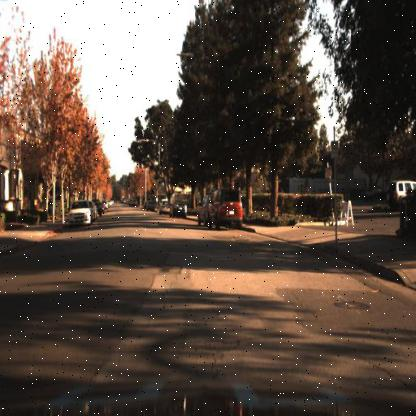car: (206, 188, 242, 232), (65, 192, 93, 232), (192, 194, 210, 236), (68, 200, 92, 225), (168, 197, 191, 221), (158, 196, 173, 218)
